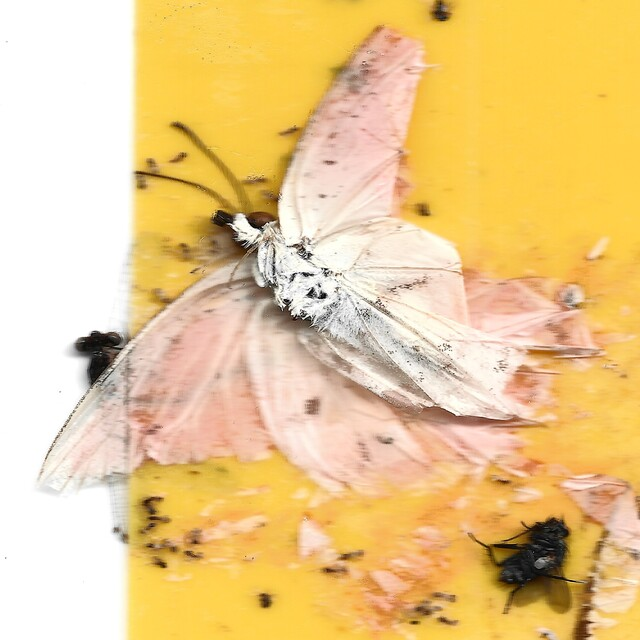Brachycera: (465, 516, 588, 616)
Lepidoptera: (32, 24, 608, 501)
